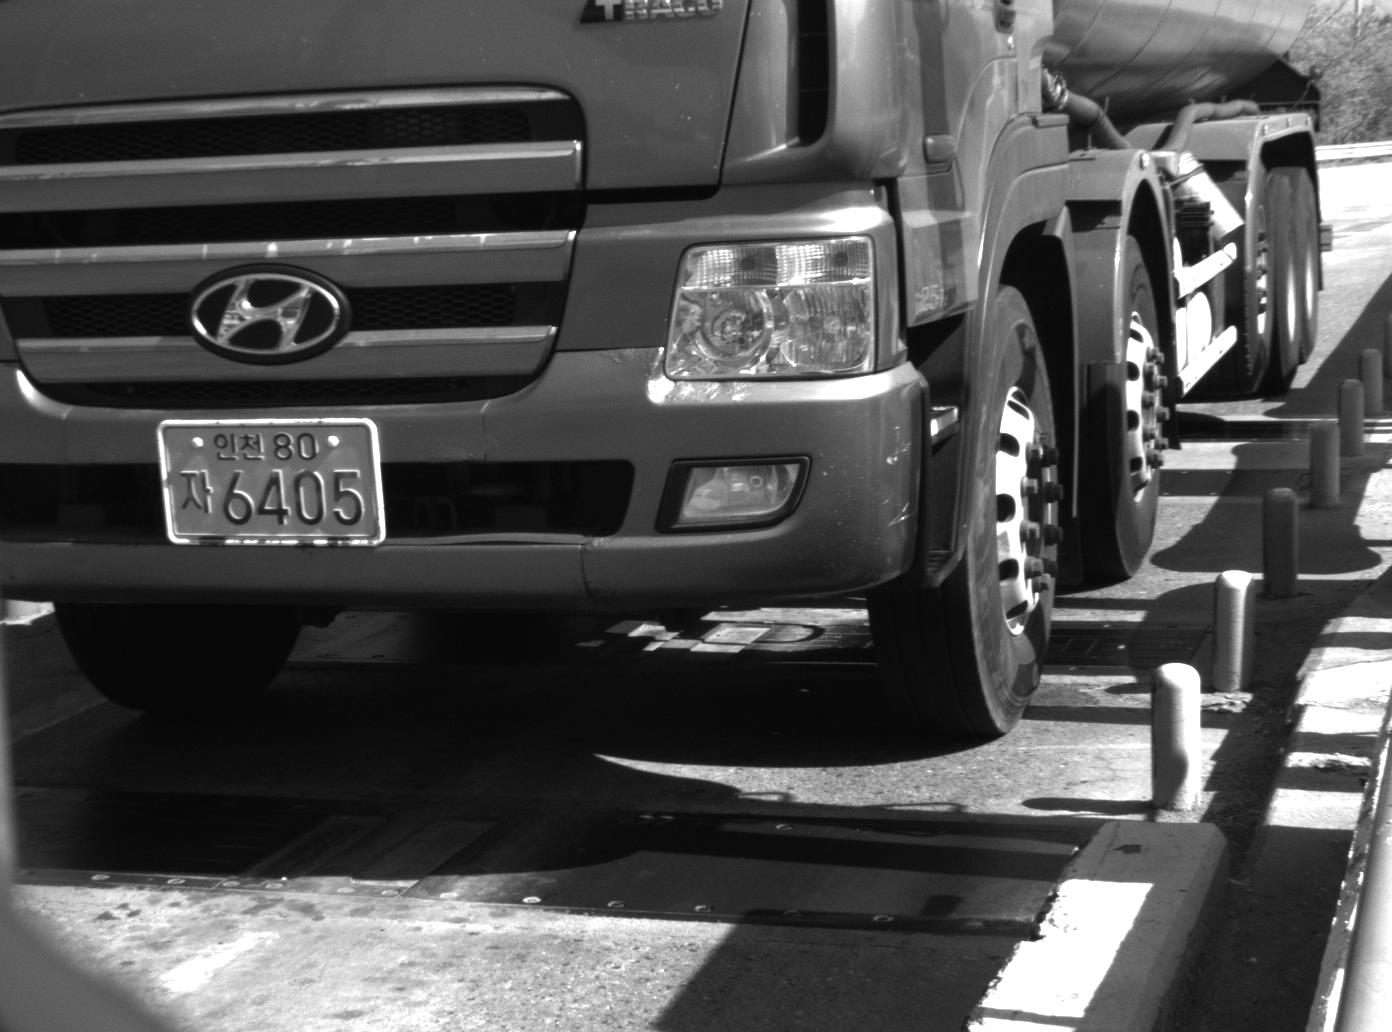car: (1, 1, 1334, 748)
plate: (158, 420, 384, 543)
